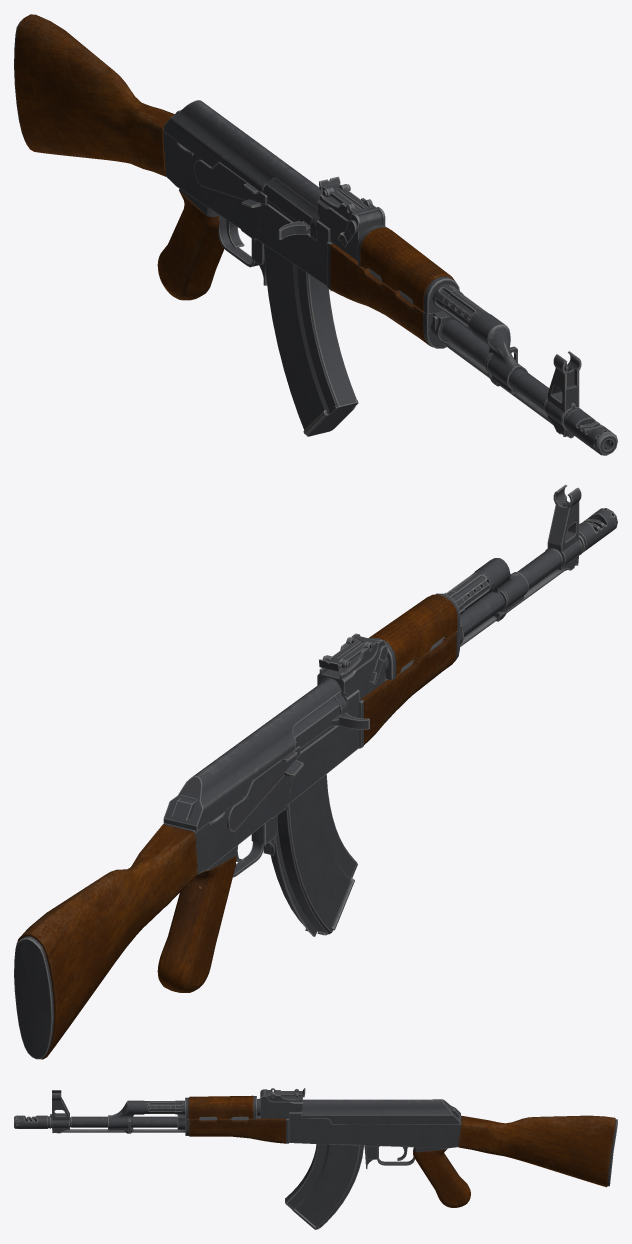
The model's file is AK_47_Assault_Rifle (1) (1).glb.
3 renders of one model, top to bottom at view 1: azimuth 30°, elevation 25°; view 2: azimuth 150°, elevation 25°; view 3: azimuth 270°, elevation 25°, orthographic. The views are drawn at different scales.
Visible parts, largest first — view 1: ak47_ak47_0, mag_ak47_0, bolt_ak47_0; view 2: ak47_ak47_0, mag_ak47_0, bolt_ak47_0; view 3: ak47_ak47_0, mag_ak47_0.
Boxes of the visible parts, x1,y1,x2,y2 form: ak47_ak47_0: [14, 14, 617, 455]; mag_ak47_0: [264, 244, 358, 436]; bolt_ak47_0: [262, 178, 317, 239]; ak47_ak47_0: [14, 484, 617, 1059]; mag_ak47_0: [270, 774, 357, 936]; bolt_ak47_0: [292, 696, 369, 751]; ak47_ak47_0: [14, 1088, 617, 1207]; mag_ak47_0: [285, 1144, 364, 1229].
Size of the model in its own units: 0.0619 by 0.237 by 0.944.
Materials: 1 (1 with a texture image).
